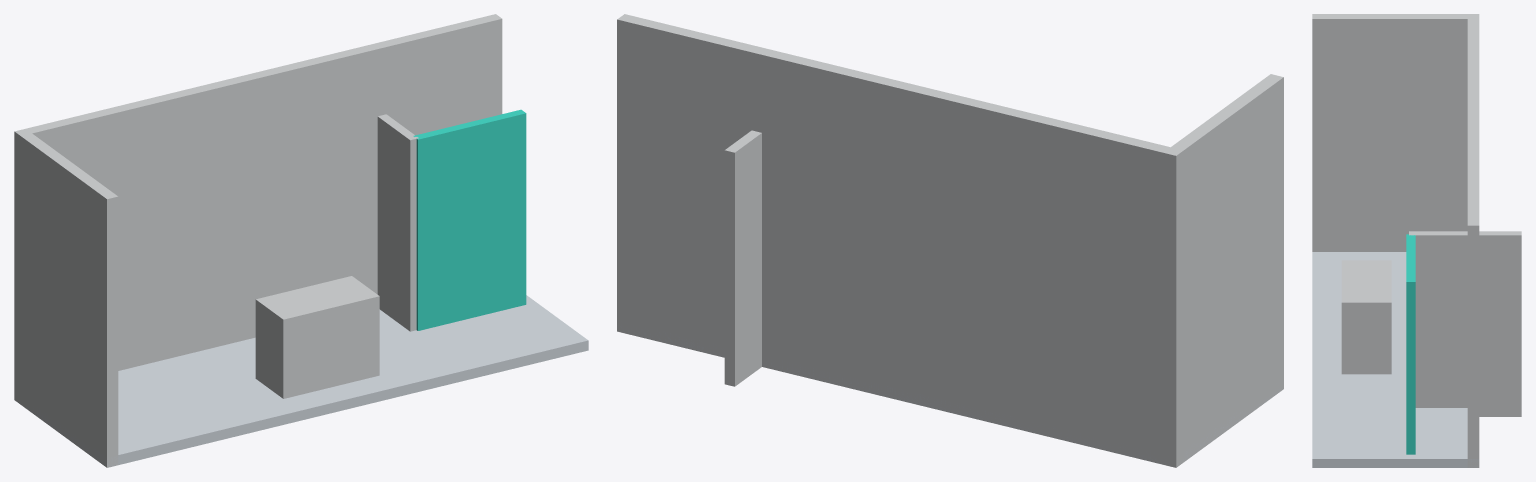
3 views of the same model, side by side, from view 1: azimuth 30°, elevation 25°; view 2: azimuth 150°, elevation 25°; view 3: azimuth 270°, elevation 25° (orthographic). The views are drawn at different scales.
Visible parts, largest first — view 1: Exhibition Booth Concept; view 2: Exhibition Booth Concept; view 3: Exhibition Booth Concept.
Part boxes in pixels (x1,y1,x2,y2): Exhibition Booth Concept: (14, 14, 588, 467); Exhibition Booth Concept: (617, 14, 1283, 467); Exhibition Booth Concept: (1312, 14, 1521, 467).
Bounding box in the file's own units: 6 × 3.2 × 2.5.
